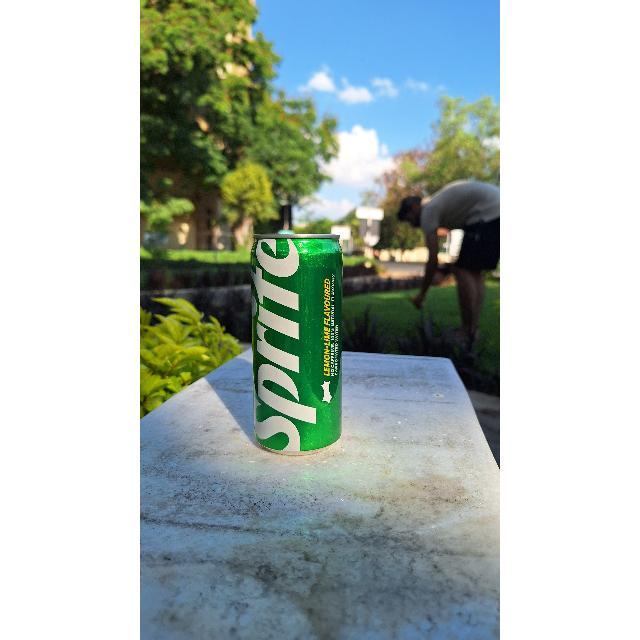Sprite: (247, 234, 345, 452)
